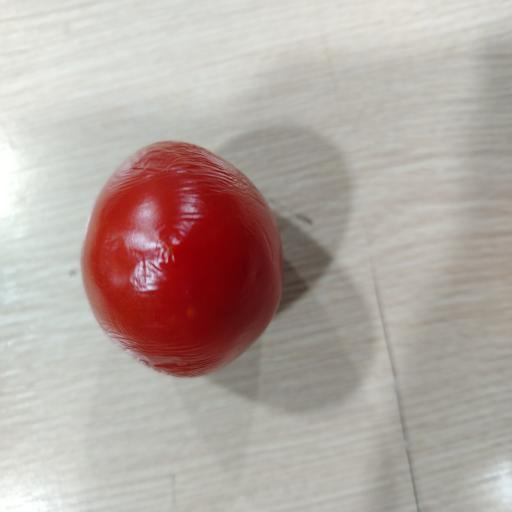spoiled: (82, 142, 283, 376)
